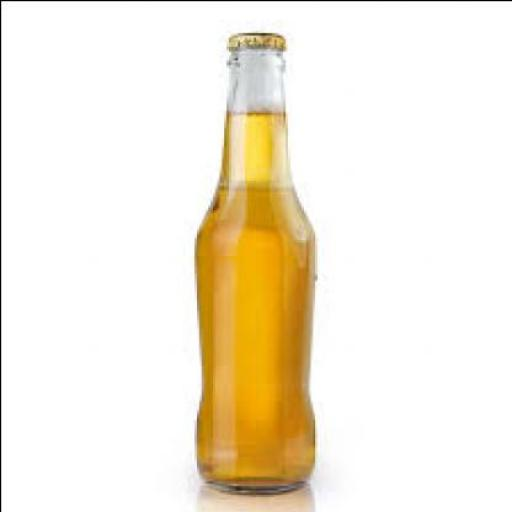glass: (191, 44, 314, 489)
metal: (223, 28, 280, 50)
